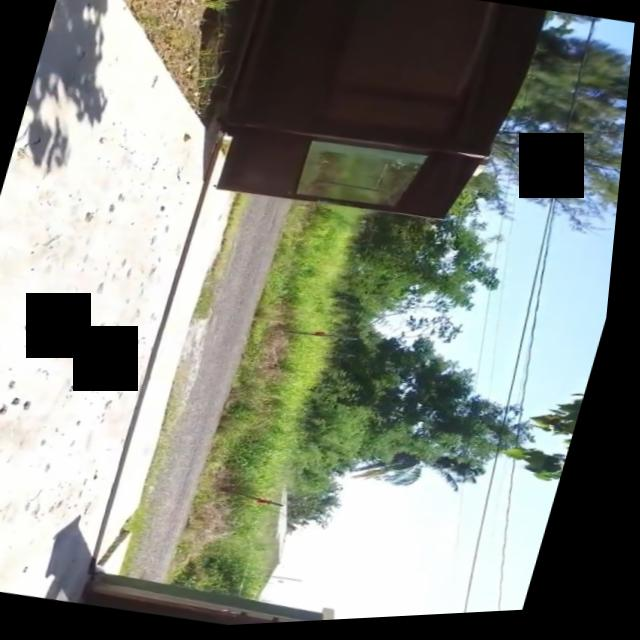Building: (188, 0, 530, 242), (83, 564, 359, 635)
